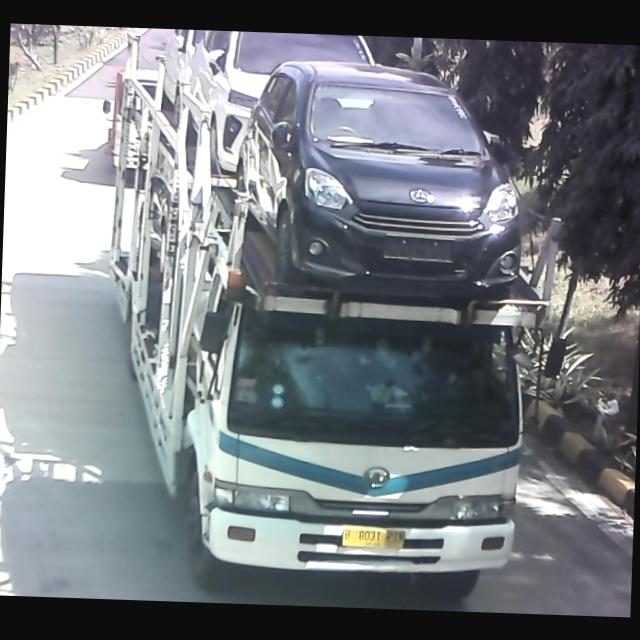plate: (336, 523, 411, 551)
